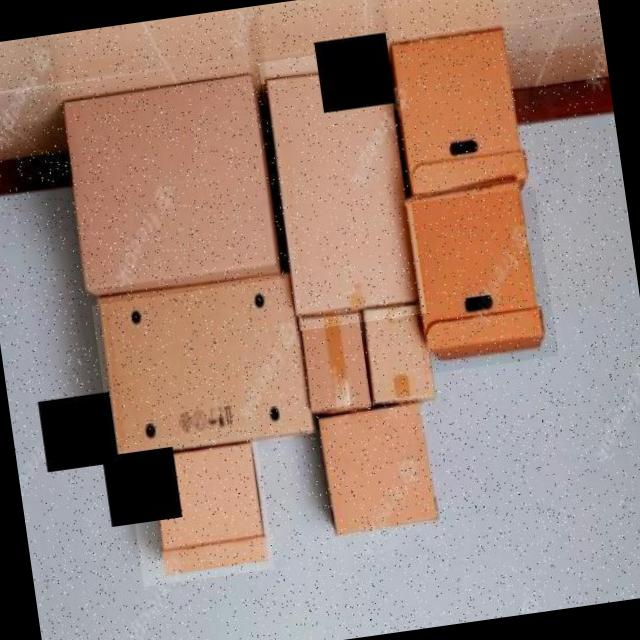box: (54, 61, 284, 306), (259, 45, 427, 332), (90, 266, 316, 461), (400, 172, 558, 374), (384, 24, 539, 205), (123, 424, 275, 587), (302, 394, 446, 560), (294, 295, 382, 430), (358, 290, 440, 415)
